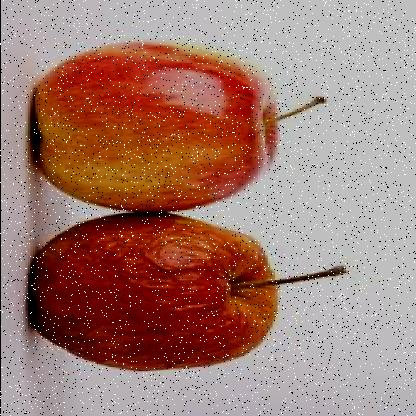apple: (22, 49, 279, 207)
damaged_apple: (24, 214, 278, 372)
